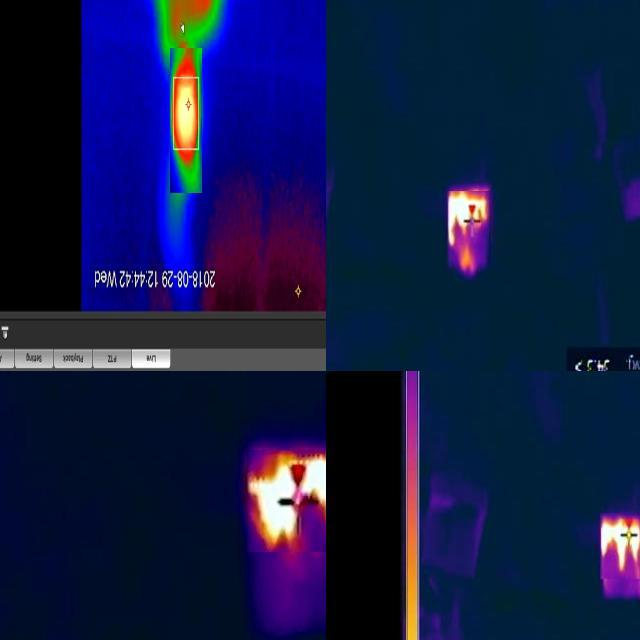fire: (247, 450, 327, 552), (170, 48, 202, 193), (447, 191, 491, 277), (600, 513, 640, 579)
